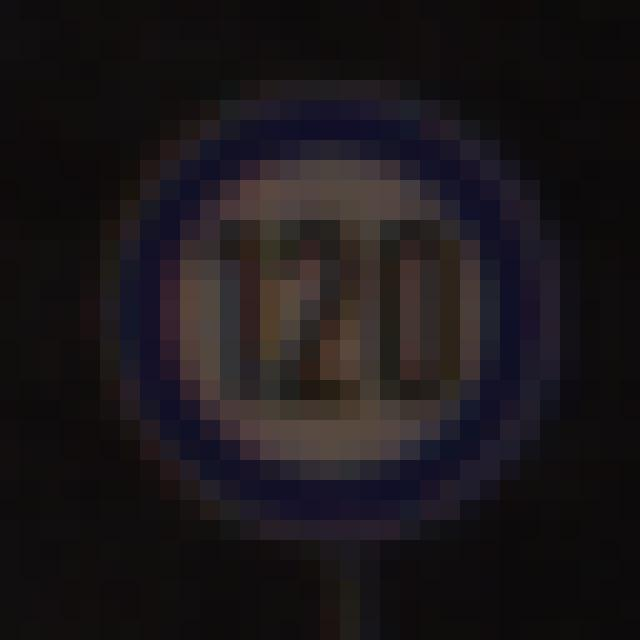SPEED LIMIT 120: (92, 97, 534, 506)
